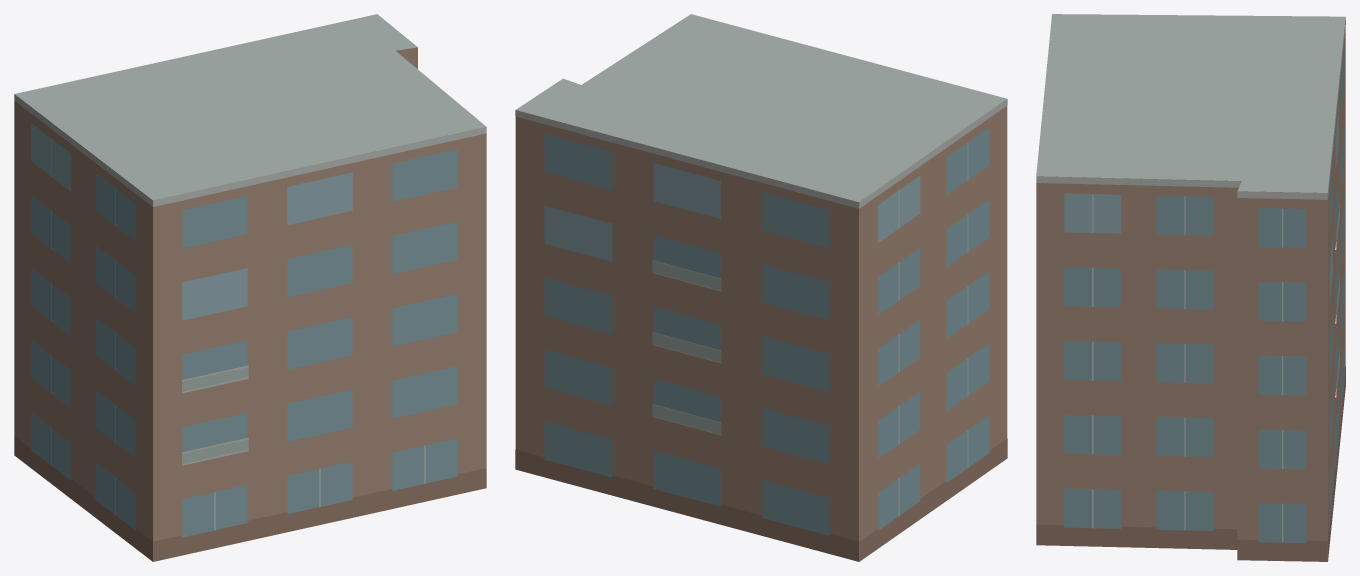
Rendered from survey-upis-32650009.glb.
3 renders of one model, left to right at view 1: azimuth 30°, elevation 25°; view 2: azimuth 150°, elevation 25°; view 3: azimuth 270°, elevation 25°, orthographic. The views are drawn at different scales.
Parts seen in each view (by area): view 1: survey-upis-32650009.tmp; view 2: survey-upis-32650009.tmp; view 3: survey-upis-32650009.tmp.
Boxes of the visible parts, box(x1,y1,x2,y2) form: survey-upis-32650009.tmp: box(14, 14, 486, 561); survey-upis-32650009.tmp: box(515, 14, 1007, 561); survey-upis-32650009.tmp: box(1036, 14, 1345, 561).
Size of the model in its own units: 13.95 by 13.4 by 10.21.
